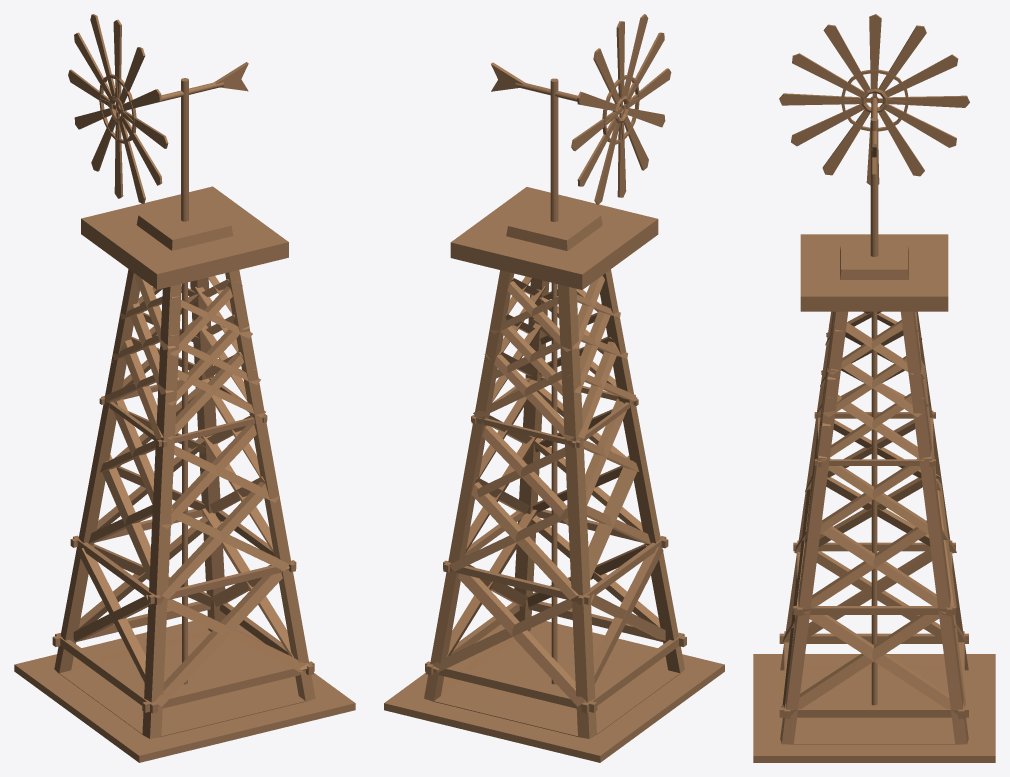
The model's file is wINDmILL.fbx.
3 renders of one model, left to right at view 1: azimuth 30°, elevation 25°; view 2: azimuth 150°, elevation 25°; view 3: azimuth 270°, elevation 25°, orthographic. The views are drawn at different scales.
Visible parts, largest first — view 1: Cube, Cylinder.002, Cylinder.001; view 2: Cube, Cylinder.002, Cylinder.001; view 3: Cube, Cylinder.002, Cylinder.001.
Boxes of the visible parts, x1,y1,x2,y2 form: Cube: (14,186,355,762); Cylinder.002: (68,14,174,203); Cylinder.001: (173,62,248,221); Cube: (384,187,724,762); Cylinder.002: (565,14,671,204); Cylinder.001: (491,62,623,221); Cube: (753,234,995,762); Cylinder.002: (779,14,969,185); Cylinder.001: (870,96,883,256).
Bounding box in the file's own units: 908 × 2756 × 908.
